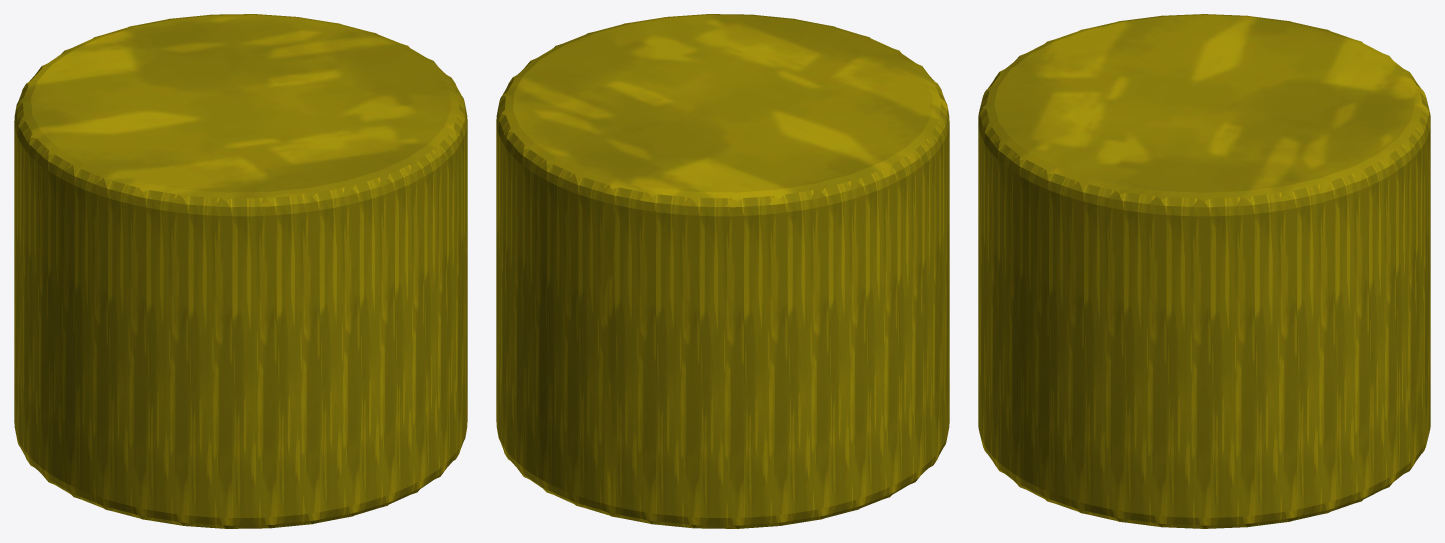
Rendered from RR_Resource_Luxian.obj.
3 renders of one model, left to right at view 1: azimuth 30°, elevation 25°; view 2: azimuth 150°, elevation 25°; view 3: azimuth 270°, elevation 25°, orthographic.
Parts seen in each view (by area): view 1: Cylinder.001; view 2: Cylinder.001; view 3: Cylinder.001.
Boxes of the visible parts, <box> form: Cylinder.001: <box>14,14,467,528</box>; Cylinder.001: <box>496,14,949,528</box>; Cylinder.001: <box>978,14,1430,528</box>.
Size of the model in its own units: 2.82 by 2.31 by 2.82.
